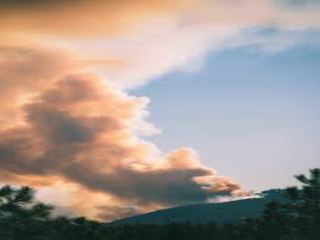smoke: (24, 80, 262, 208)
